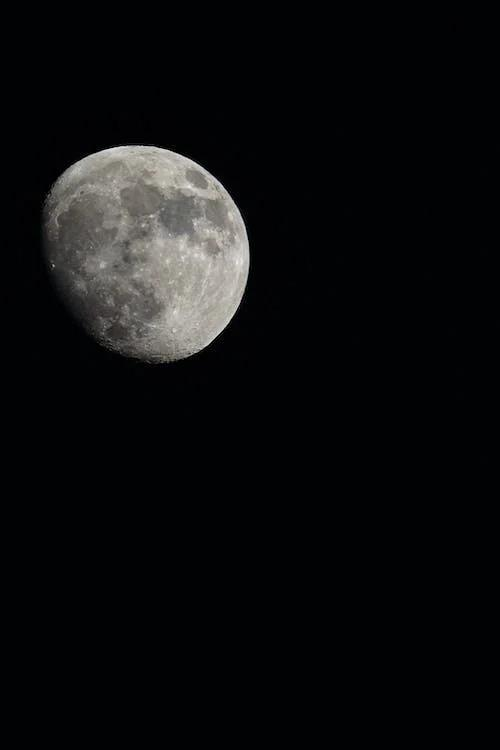moon: (30, 128, 260, 382)
